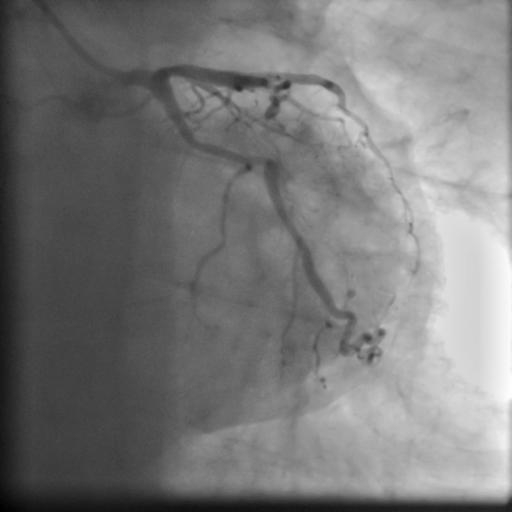Stenosis: (242, 151, 270, 168)
